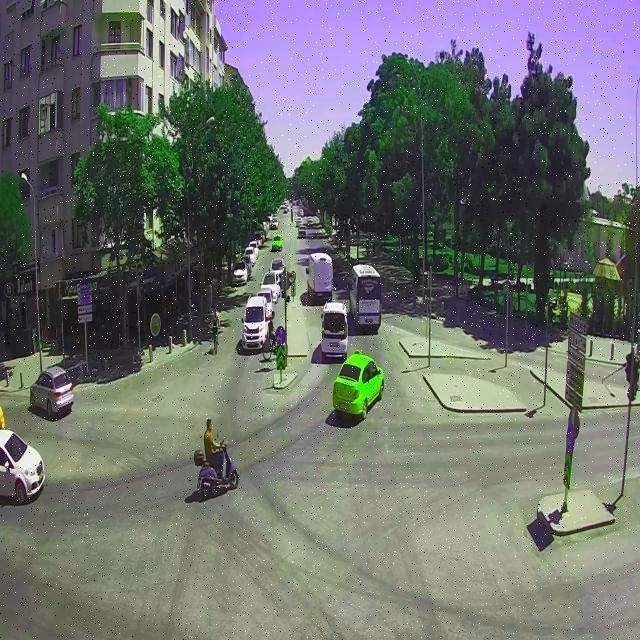Bus: (349, 265, 383, 328)
Car: (0, 428, 46, 504), (332, 354, 385, 418), (29, 365, 75, 419), (241, 295, 271, 350), (260, 270, 283, 304), (232, 261, 249, 285), (271, 235, 283, 252)
Cycle: (193, 439, 239, 497)
Van: (320, 302, 349, 357), (304, 253, 333, 301)
